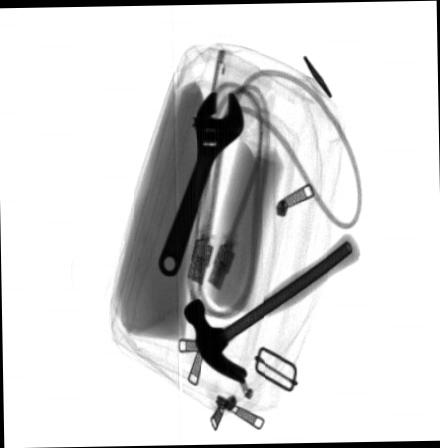Hammer: (181, 232, 359, 385)
Wrench: (156, 91, 244, 276)
